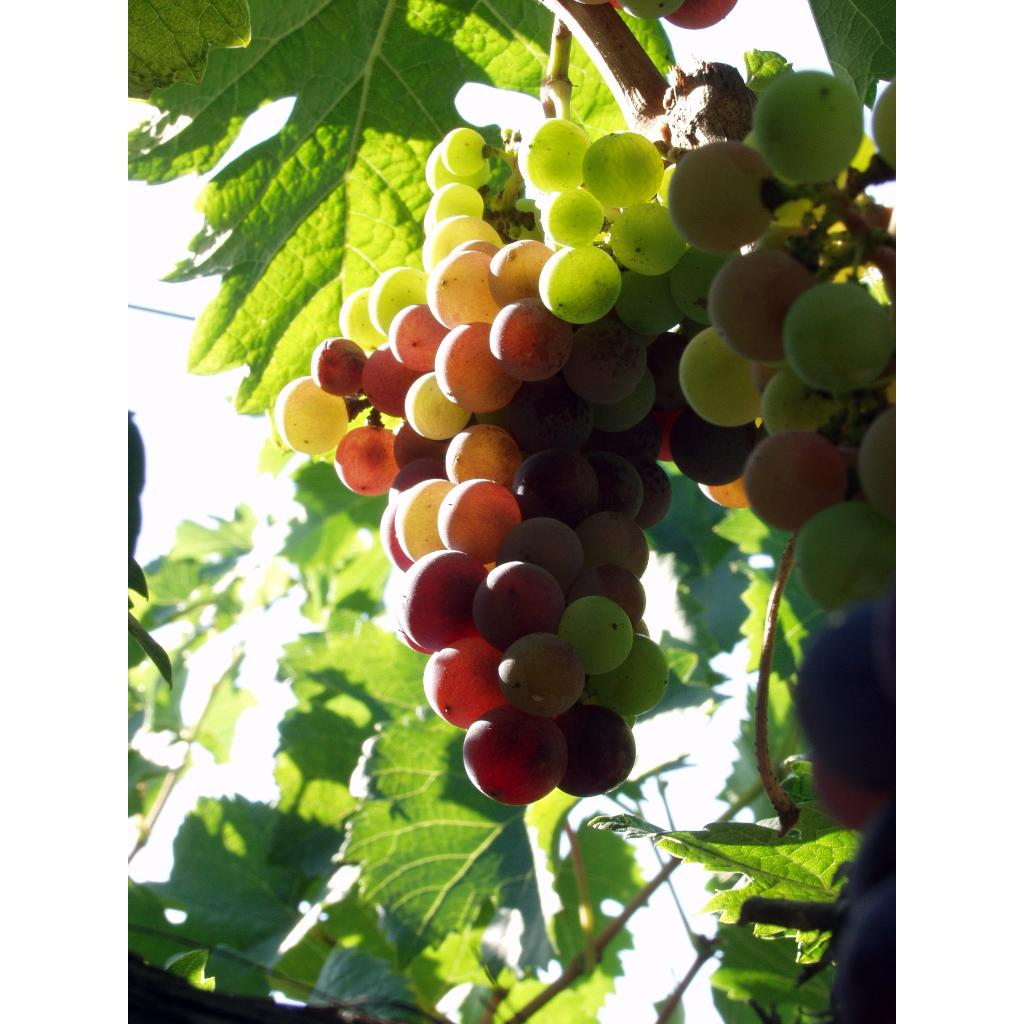grape: (273, 27, 894, 824)
